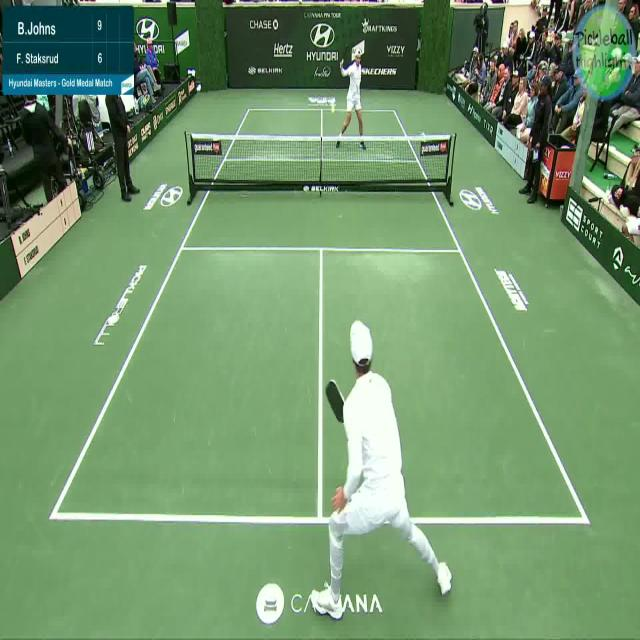Court: (50, 110, 588, 520)
